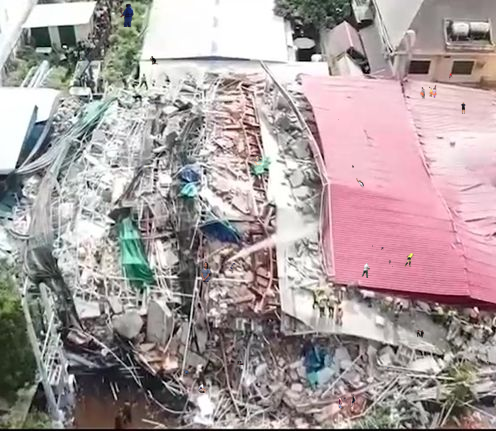Human: (339, 393, 372, 408), (113, 4, 134, 27), (420, 84, 437, 99), (201, 262, 211, 282), (244, 156, 262, 167), (357, 263, 370, 278), (404, 253, 414, 267), (461, 102, 472, 114), (198, 382, 209, 393), (356, 178, 366, 189), (150, 56, 158, 65), (417, 329, 424, 338), (372, 245, 384, 250), (230, 263, 235, 274), (449, 70, 453, 80), (388, 260, 393, 267), (236, 361, 244, 365), (183, 369, 189, 374), (79, 55, 83, 62), (487, 361, 491, 366), (352, 165, 356, 170), (147, 166, 150, 169), (387, 367, 390, 369), (338, 119, 339, 122), (228, 101, 229, 104)
